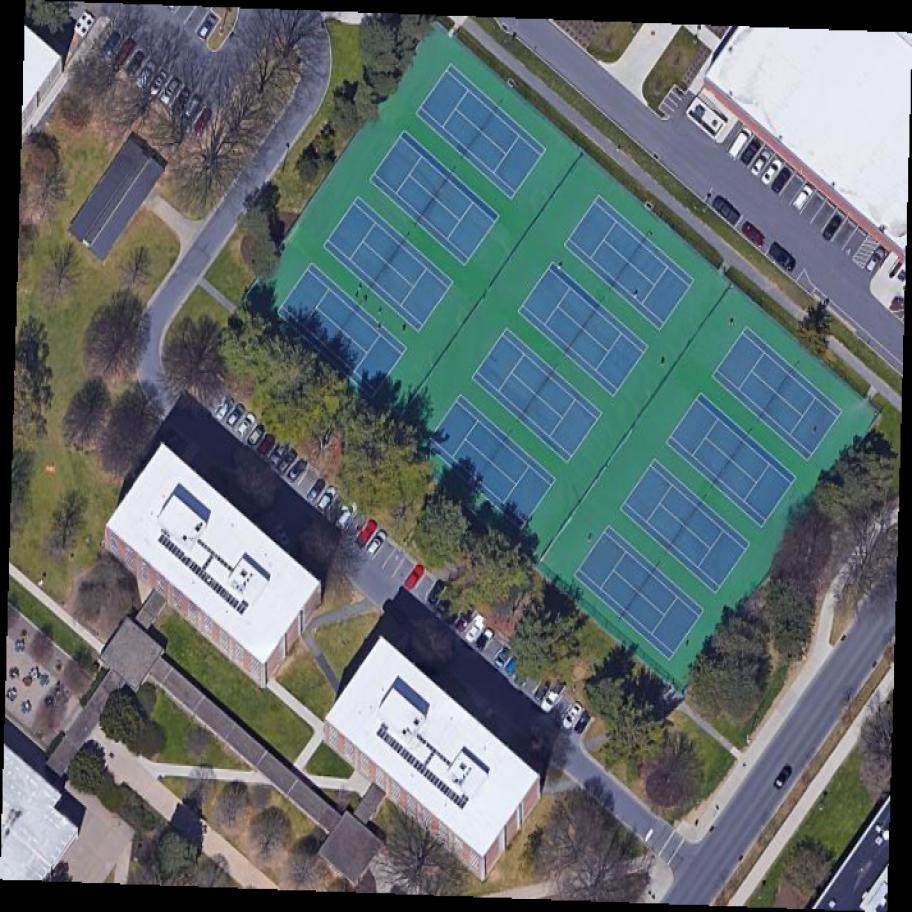small-vehicle: (537, 676, 572, 717), (329, 499, 362, 536), (725, 124, 757, 162), (710, 195, 745, 228), (766, 243, 800, 275), (747, 145, 778, 179), (169, 85, 198, 120), (558, 700, 588, 733), (461, 613, 491, 646), (178, 93, 207, 127), (157, 75, 185, 108), (353, 517, 380, 551), (123, 48, 152, 79), (233, 409, 261, 441), (211, 393, 239, 425), (738, 136, 766, 168), (739, 221, 769, 250), (99, 27, 127, 58), (768, 166, 796, 197), (132, 58, 160, 88), (789, 182, 817, 212), (364, 528, 391, 559), (192, 106, 217, 139), (863, 246, 890, 276), (113, 37, 139, 68), (759, 157, 785, 188), (284, 457, 311, 486), (254, 431, 280, 461), (195, 12, 221, 42), (303, 476, 329, 506), (424, 578, 450, 608), (822, 212, 847, 243), (272, 448, 299, 476), (224, 402, 250, 431), (147, 68, 173, 97), (512, 659, 537, 689), (244, 423, 270, 451), (572, 708, 597, 737), (315, 486, 340, 515), (402, 564, 427, 593), (268, 438, 292, 467), (434, 588, 458, 616), (473, 627, 497, 655), (532, 675, 554, 704), (454, 606, 477, 633), (773, 763, 795, 791), (274, 523, 292, 549), (494, 646, 514, 669)
